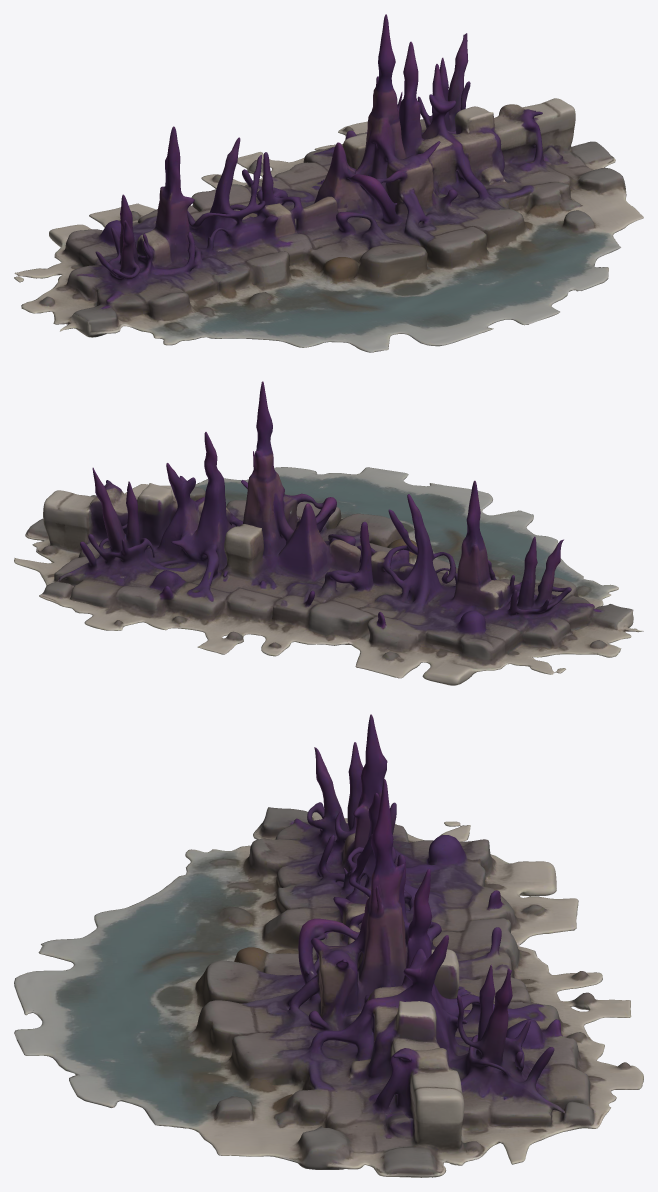
Rendered from SM_Environment_FantasyCrystalIsland_02.fbx.
3 renders of one model, top to bottom at view 1: azimuth 30°, elevation 25°; view 2: azimuth 150°, elevation 25°; view 3: azimuth 270°, elevation 25°, orthographic. The views are drawn at different scales.
Parts seen in each view (by area): view 1: SM_Environment_FantasyCrystalIsland_02; view 2: SM_Environment_FantasyCrystalIsland_02; view 3: SM_Environment_FantasyCrystalIsland_02.
Part boxes in pixels (x1=…): SM_Environment_FantasyCrystalIsland_02: x1=14, y1=14, x2=643, y2=352; SM_Environment_FantasyCrystalIsland_02: x1=14, y1=381, x2=643, y2=685; SM_Environment_FantasyCrystalIsland_02: x1=14, y1=714, x2=643, y2=1177.
Bounding box in the file's own units: 0.9961 × 0.3335 × 0.7166.
Materials: 1 (1 with a texture image).
